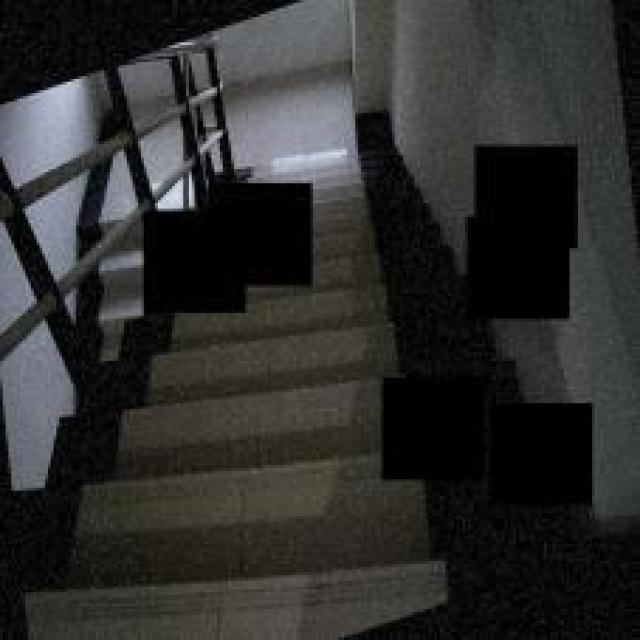downstair: (80, 337, 376, 638)
